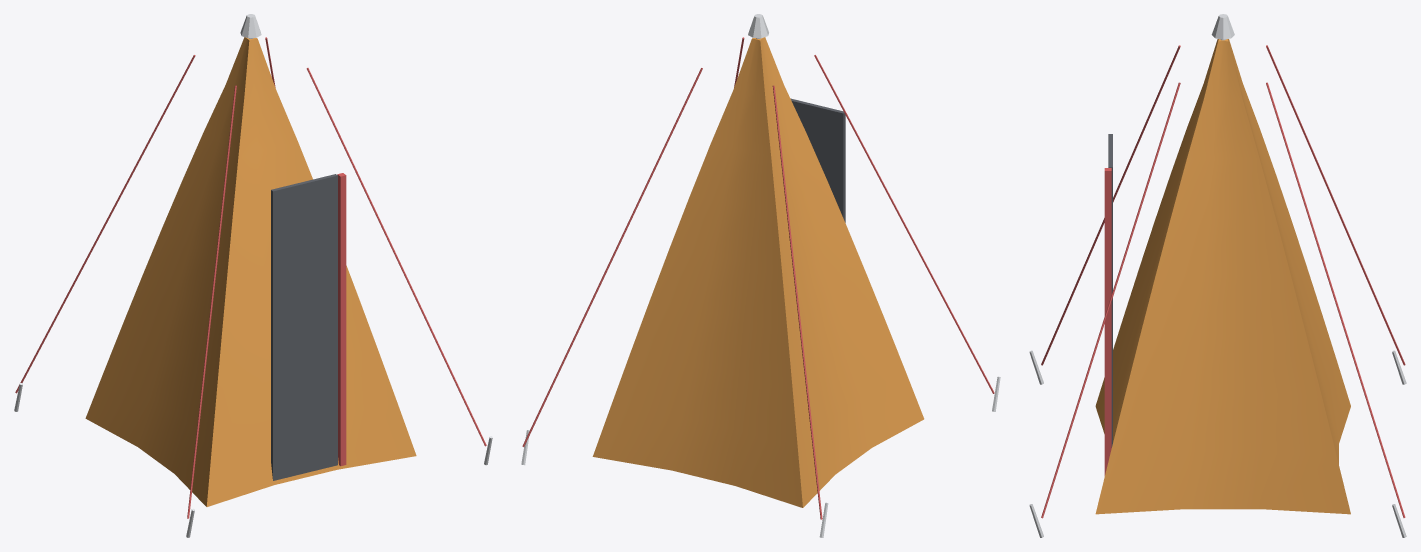
The model's file is mountaineering-and-summit-expedition-latrine-tent-106810e0__18795.glb.
The picture shows the model from 3 angles, left to right: view 1: azimuth 30°, elevation 25°; view 2: azimuth 150°, elevation 25°; view 3: azimuth 270°, elevation 25°; orthographic projection. The views are drawn at different scales.
Parts seen in each view (by area): view 1: latrine-tent; view 2: latrine-tent; view 3: latrine-tent.
Boxes of the visible parts, bbox=[...] form: latrine-tent: bbox=[14, 14, 492, 537]; latrine-tent: bbox=[521, 14, 1000, 537]; latrine-tent: bbox=[1029, 14, 1406, 537].
Size of the model in its own units: 1.58 by 2.11 by 1.62.
